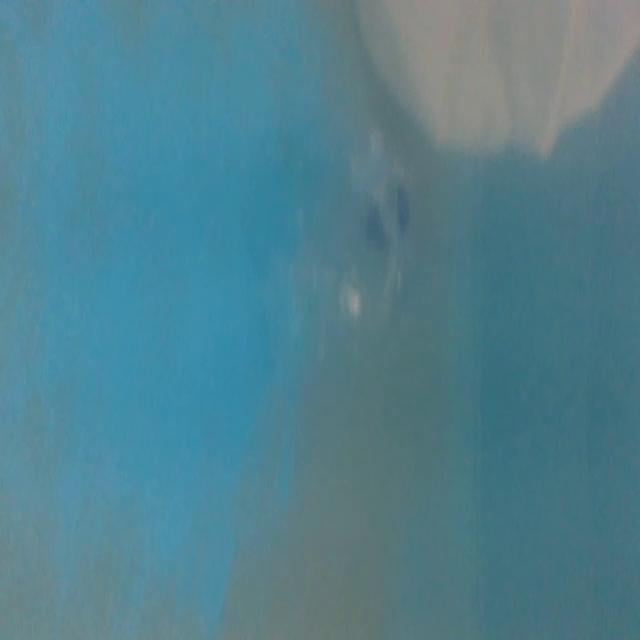plastic bags: (350, 0, 640, 173)
plastic bottle: (281, 138, 449, 339)
